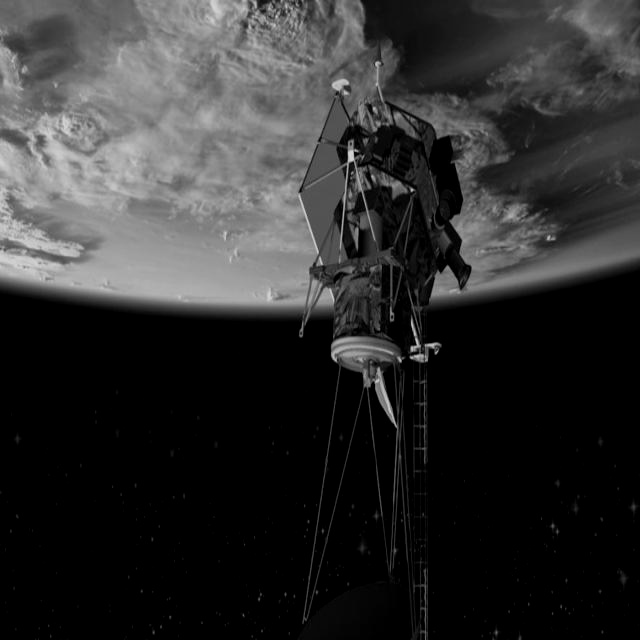satellite: (280, 0, 488, 637)
